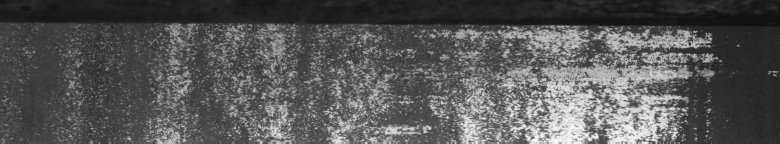kb: (4, 12, 740, 136)
